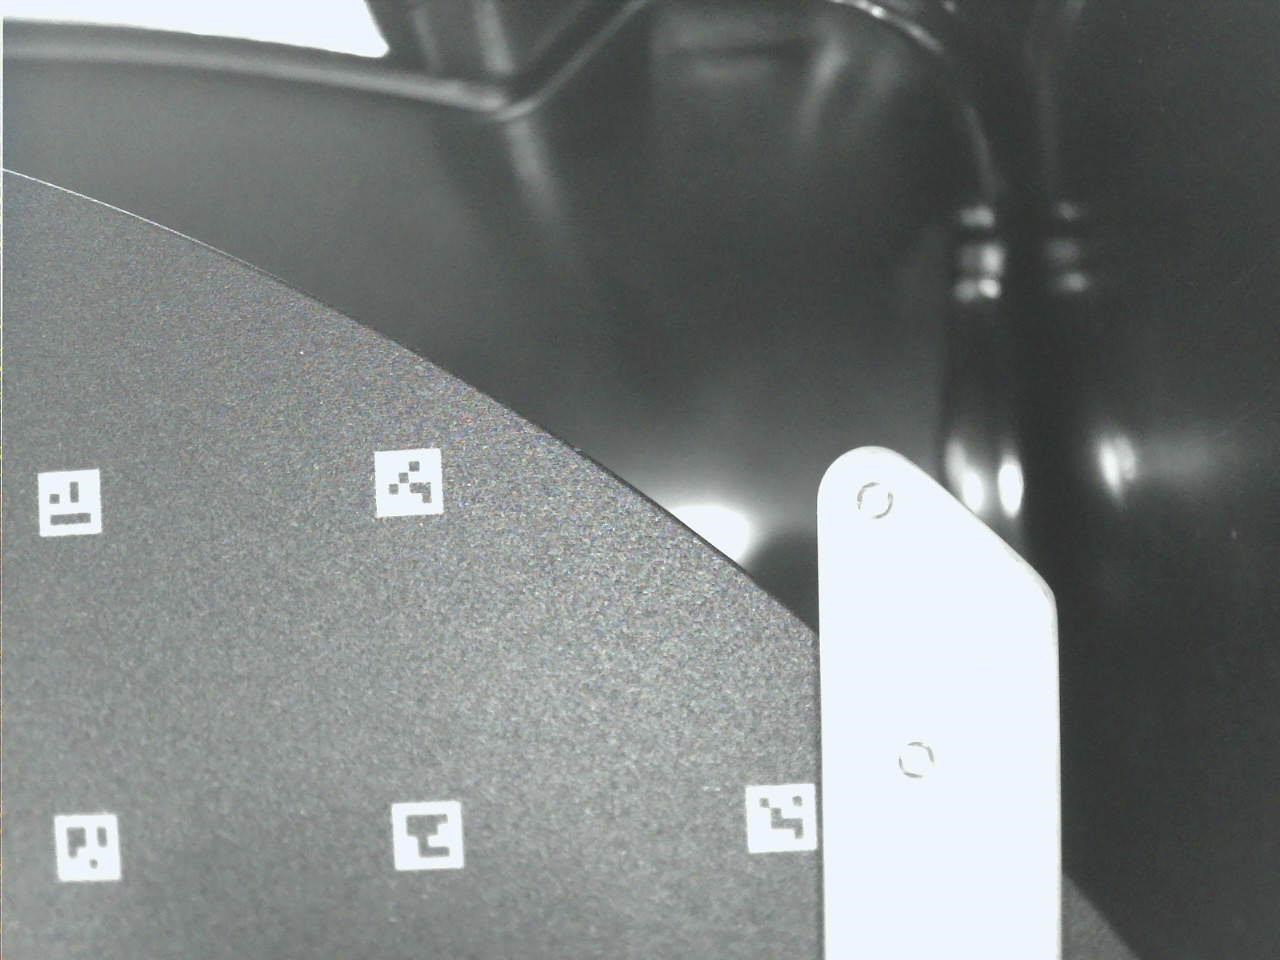forktip: (799, 421, 1074, 960)
